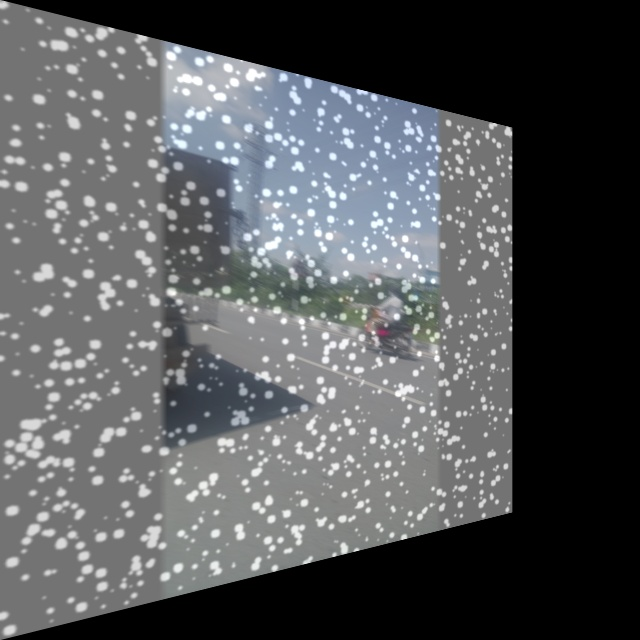U_Turn_Ahead: (285, 254, 310, 281)
